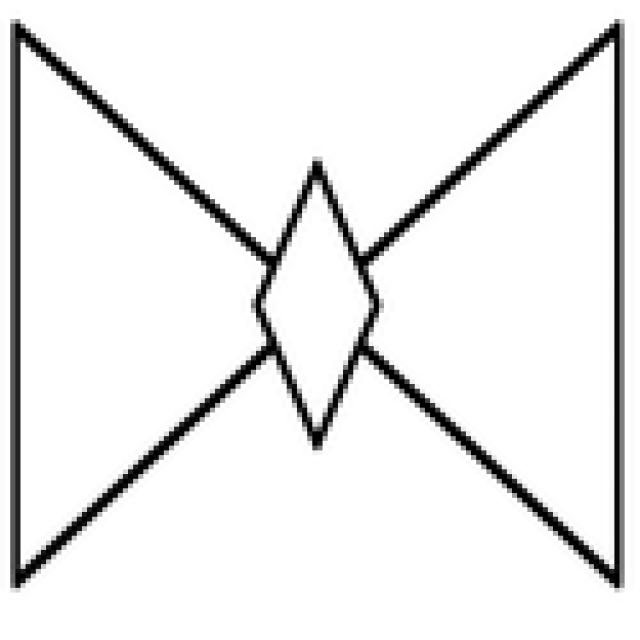Plug Valve: (10, 25, 623, 589)
